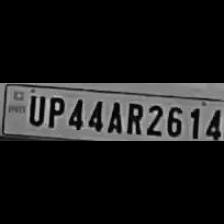1: (183, 106, 200, 140)
2: (144, 100, 162, 136)
4: (84, 97, 104, 131), (201, 106, 221, 140), (65, 96, 84, 130)
6: (164, 102, 182, 138)
A: (104, 99, 122, 134)
P: (44, 92, 64, 128)
R: (124, 100, 142, 134)
U: (24, 93, 43, 127)
